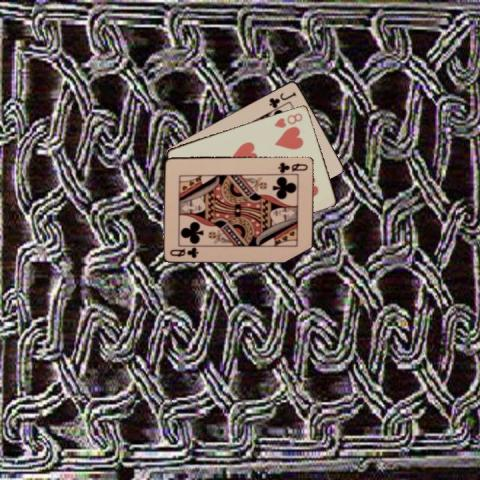8h: (271, 109, 304, 129)
Jc: (266, 88, 297, 108)
Qc: (167, 244, 200, 259), (276, 160, 310, 174)
